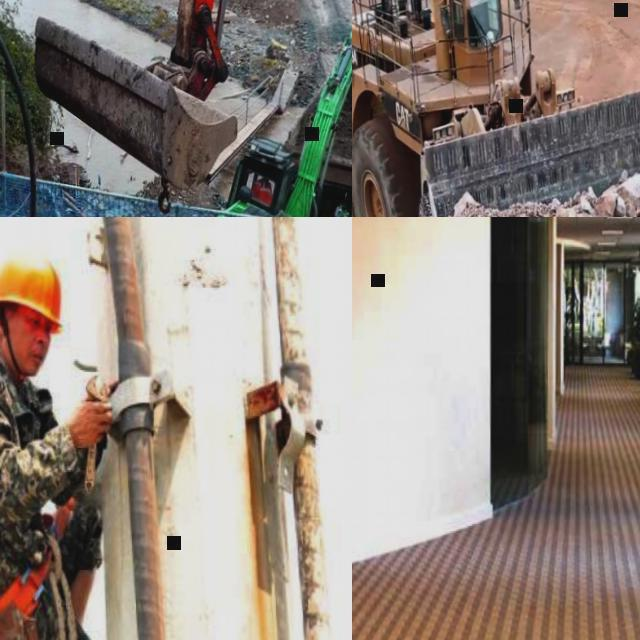helmet: (0, 253, 68, 333)
machinery: (352, 0, 640, 217), (0, 0, 277, 217), (207, 18, 352, 217)
no_mask: (10, 332, 46, 378)
no_vest: (0, 361, 57, 597)
person: (0, 250, 120, 640), (256, 174, 274, 203)
vest: (258, 178, 274, 202)
